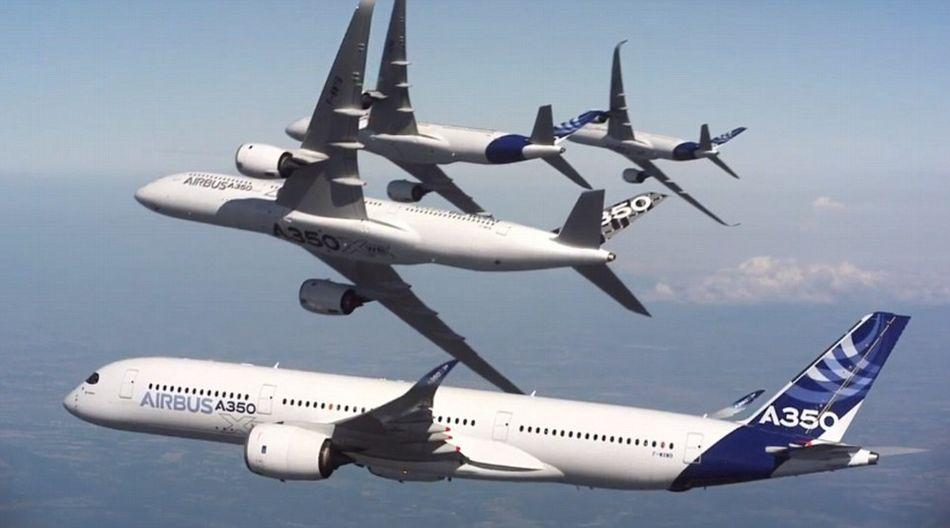airplane: (68, 312, 926, 496), (119, 151, 654, 281), (553, 45, 790, 171), (283, 92, 587, 169)
